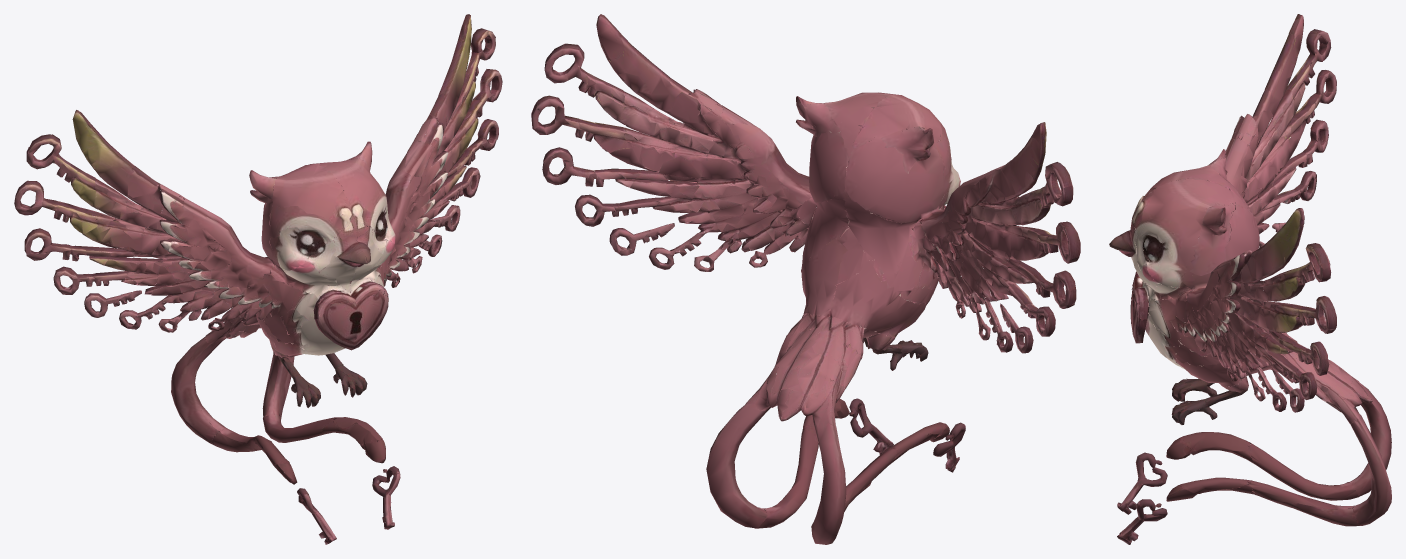
The picture shows the model from 3 angles, left to right: view 1: azimuth 30°, elevation 25°; view 2: azimuth 150°, elevation 25°; view 3: azimuth 270°, elevation 25°; orthographic projection. The views are drawn at different scales.
Visible parts, largest first — view 1: Mesh_0; view 2: Mesh_0; view 3: Mesh_0.
Part boxes in pixels (box(x1,y1,x2,y2)): Mesh_0: box(14, 14, 502, 544); Mesh_0: box(531, 14, 1080, 544); Mesh_0: box(1109, 14, 1391, 544).
Size of the model in its own units: 1.9 by 1.54 by 0.9432.
1 material, 1 textured.
